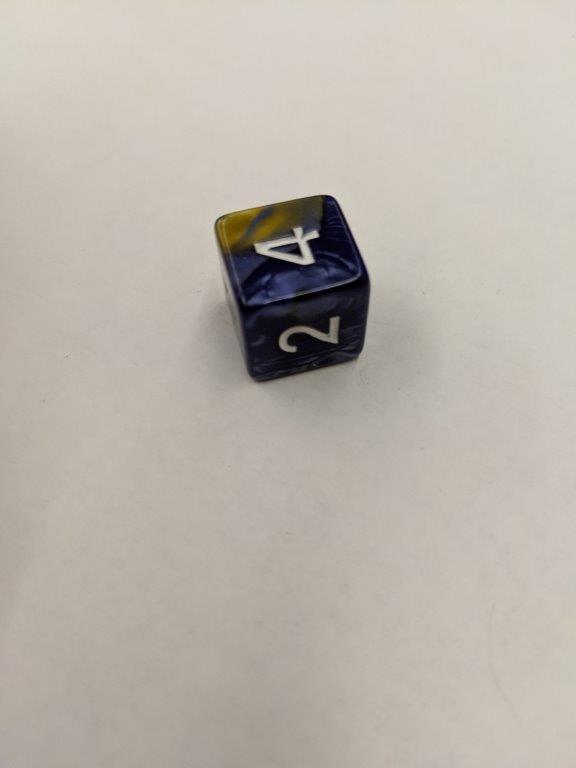d6-4: (215, 193, 372, 386)
